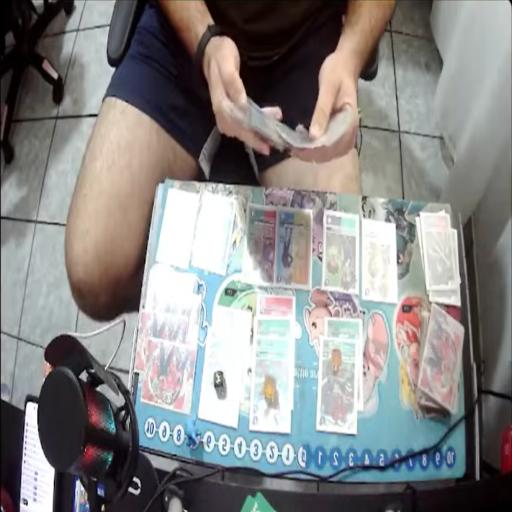card: (198, 325, 248, 432), (316, 339, 359, 433), (251, 340, 294, 430), (324, 316, 364, 405), (195, 194, 237, 274), (361, 220, 398, 308), (157, 193, 200, 268), (275, 206, 312, 292), (240, 206, 276, 286), (323, 219, 358, 299), (422, 211, 456, 292), (214, 304, 252, 341), (253, 318, 298, 346), (257, 294, 298, 321)
